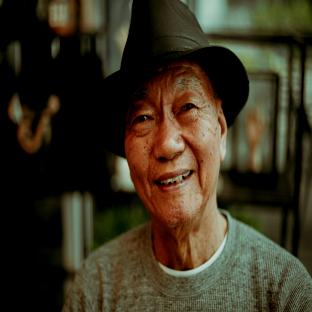Human: (62, 0, 312, 312)
